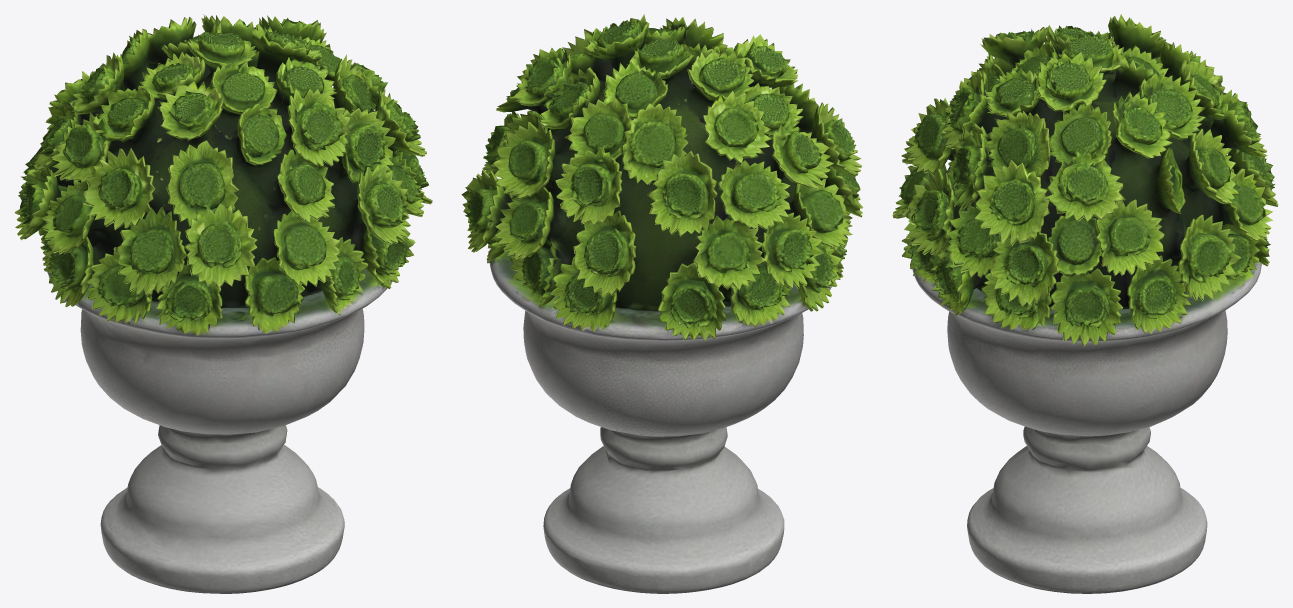
The model's file is decor-topiary-green.glb.
3 views of the same model, side by side, from view 1: azimuth 30°, elevation 25°; view 2: azimuth 150°, elevation 25°; view 3: azimuth 270°, elevation 25° (orthographic).
Parts seen in each view (by area): view 1: tripo_node_0d838655-18b2-4e87-9f1d-cd53dc51102f; view 2: tripo_node_0d838655-18b2-4e87-9f1d-cd53dc51102f; view 3: tripo_node_0d838655-18b2-4e87-9f1d-cd53dc51102f.
Part boxes in pixels (x1=…): tripo_node_0d838655-18b2-4e87-9f1d-cd53dc51102f: x1=14, y1=14, x2=432, y2=593; tripo_node_0d838655-18b2-4e87-9f1d-cd53dc51102f: x1=461, y1=14, x2=863, y2=593; tripo_node_0d838655-18b2-4e87-9f1d-cd53dc51102f: x1=892, y1=14, x2=1278, y2=593.
Size of the model in its own units: 0.3269 by 0.45 by 0.3094.
Materials: 1 (1 with a texture image).
